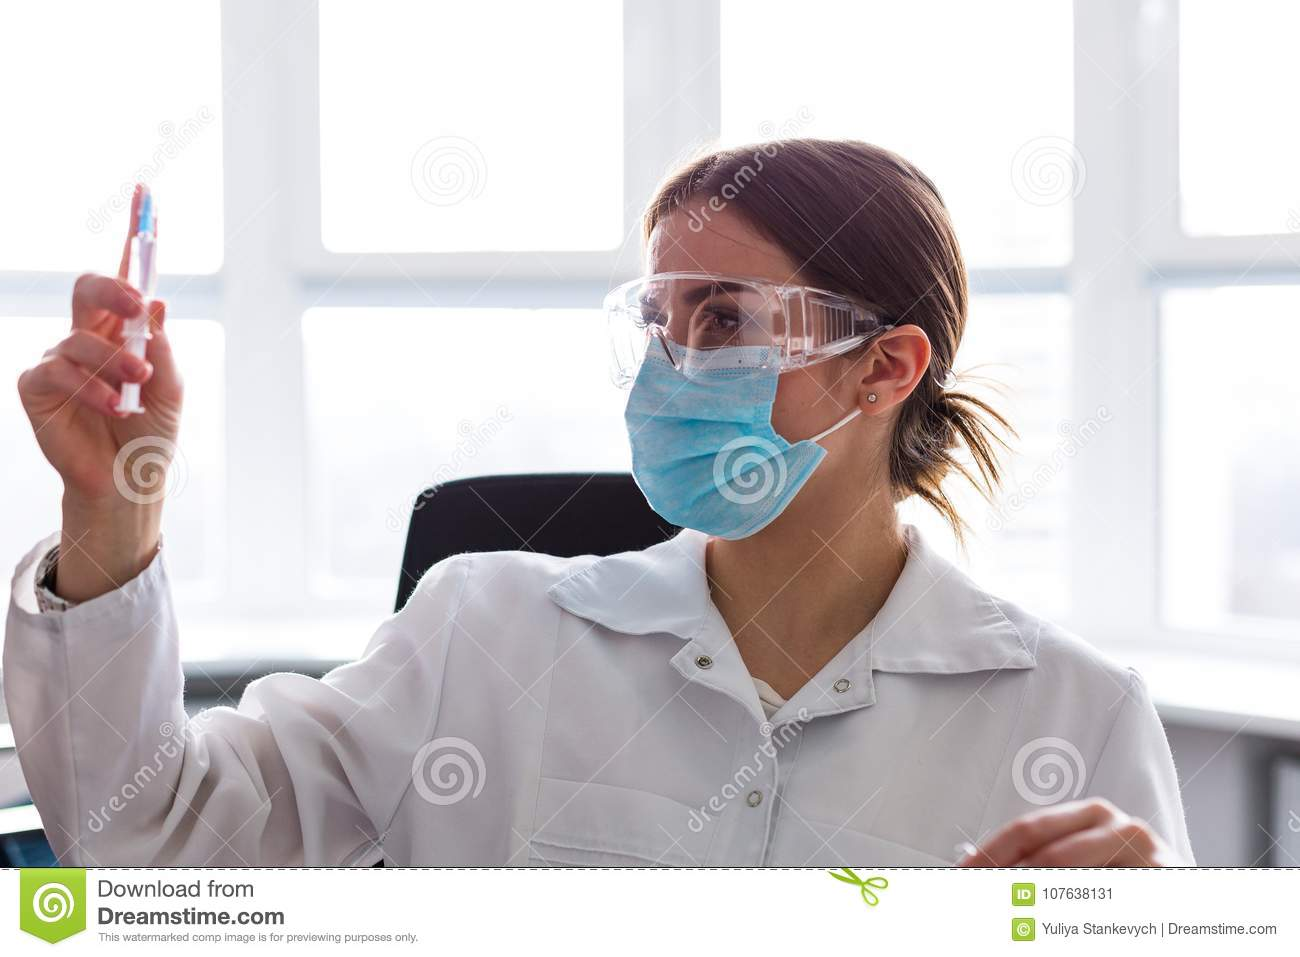mask: (617, 339, 819, 536)
